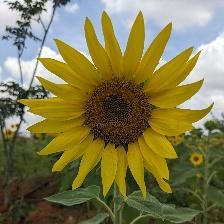sunflower: (17, 10, 219, 201)
